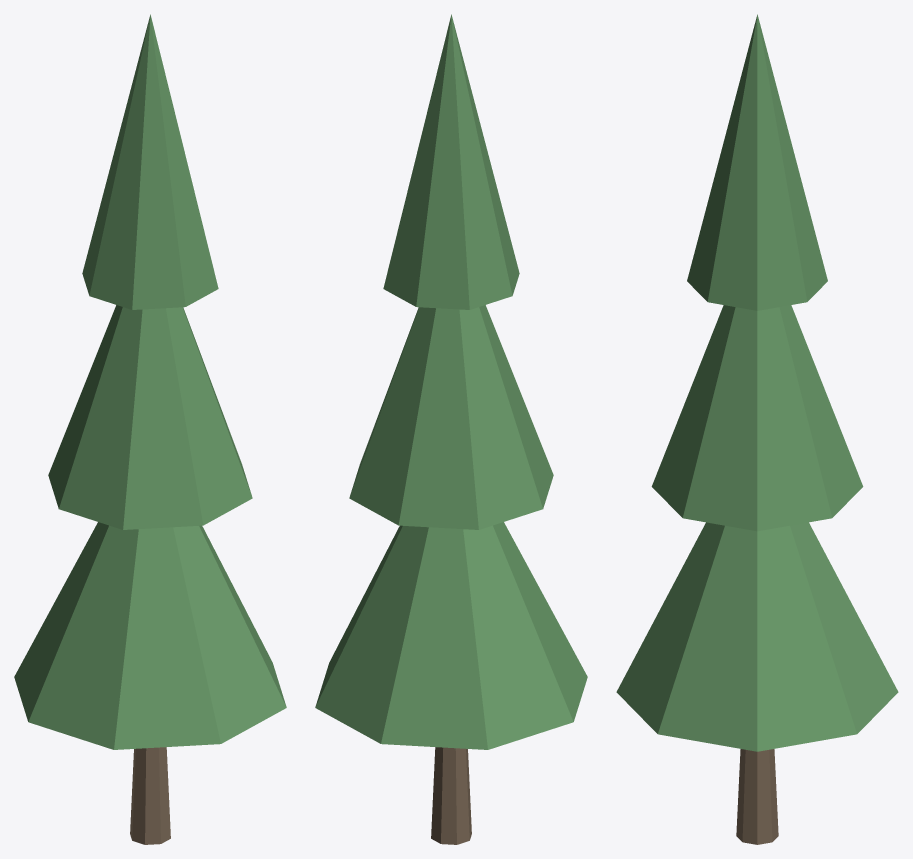
Rendered from pine_medium.glb.
3 views of the same model, side by side, from view 1: azimuth 30°, elevation 25°; view 2: azimuth 150°, elevation 25°; view 3: azimuth 270°, elevation 25° (orthographic).
Parts seen in each view (by area): view 1: Pine; view 2: Pine; view 3: Pine.
Part boxes in pixels (left/top/right/bottom): Pine: left=14, top=14, right=286, bottom=844; Pine: left=315, top=14, right=587, bottom=844; Pine: left=616, top=14, right=898, bottom=844.
Size of the model in its own units: 0.7 by 2.25 by 0.7.
